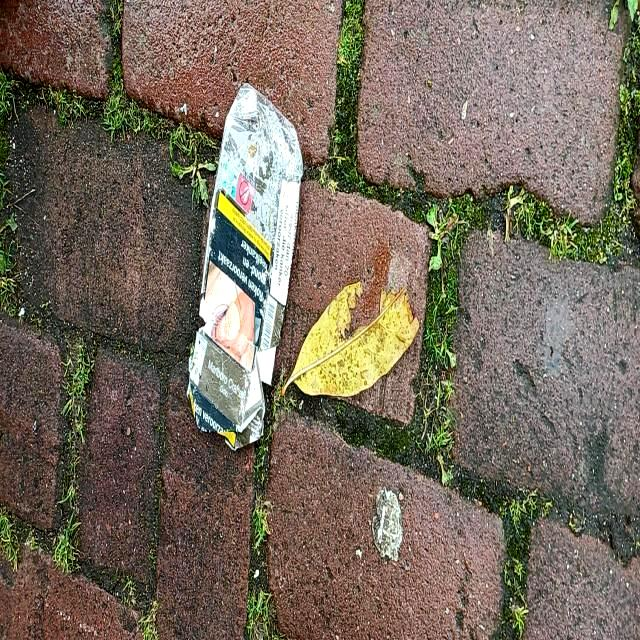Paper: (182, 75, 304, 453)
